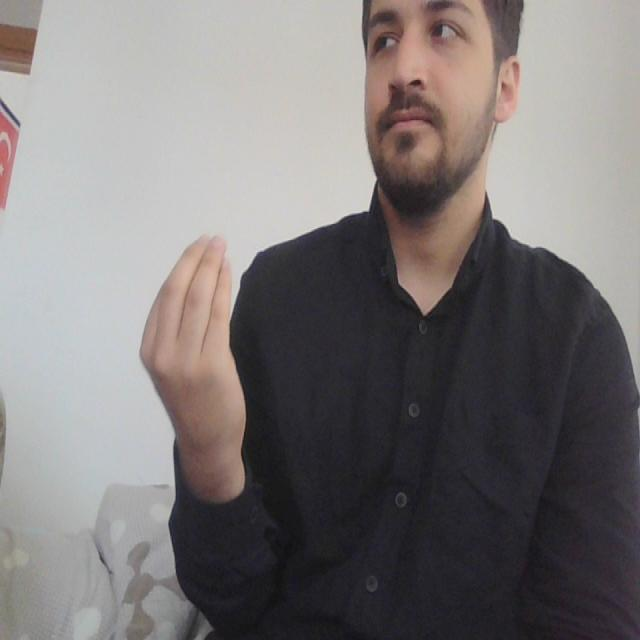iyi: (132, 208, 238, 378)
